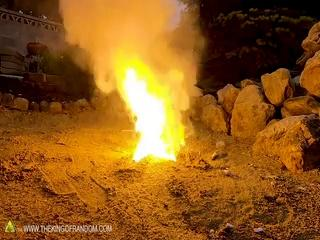Fire: (112, 63, 180, 159)
